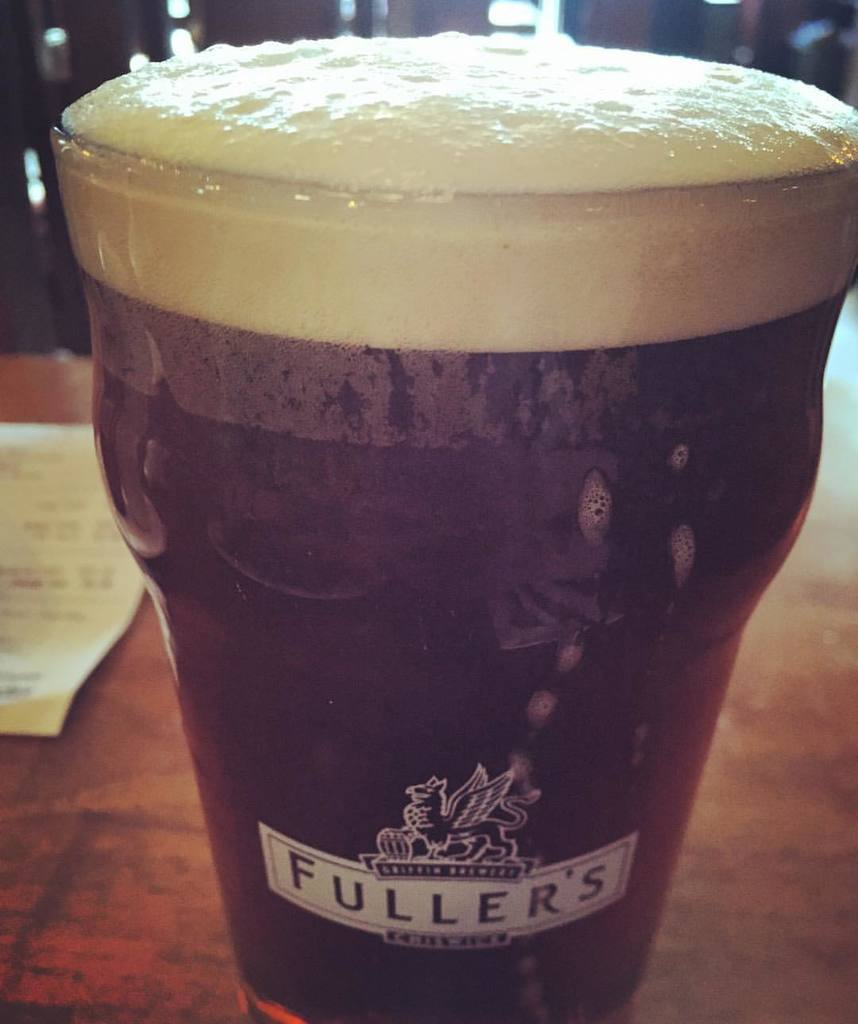Beer: (46, 24, 856, 1021)
